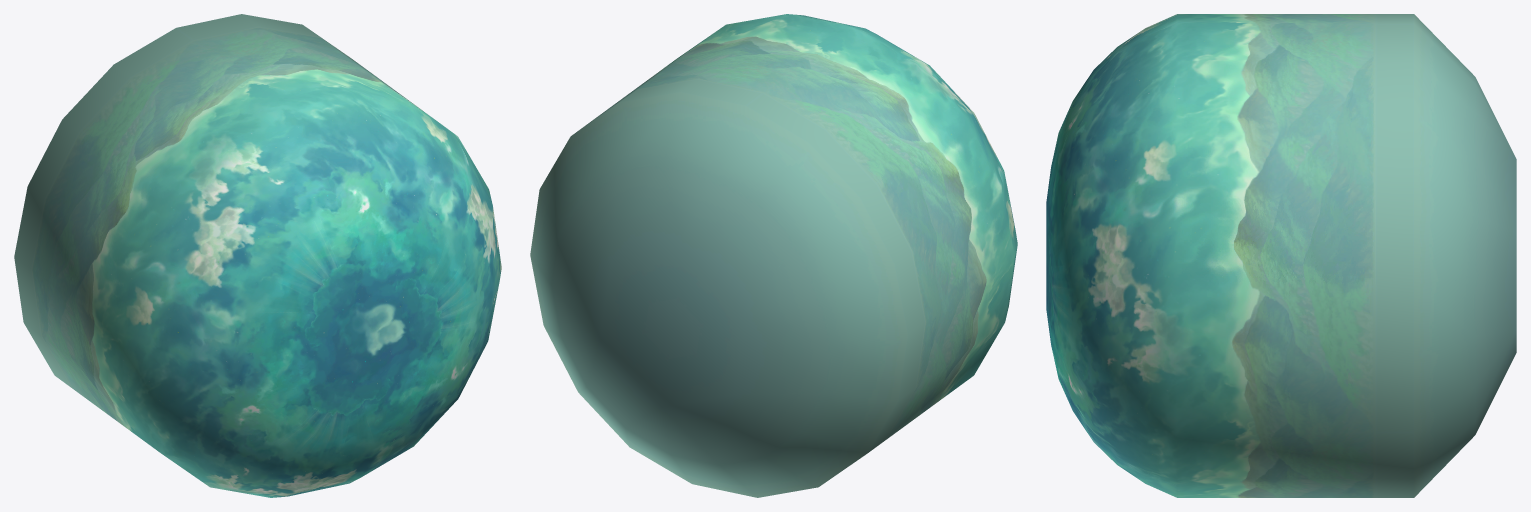
3 views of the same model, side by side, from view 1: azimuth 30°, elevation 25°; view 2: azimuth 150°, elevation 25°; view 3: azimuth 270°, elevation 25° (orthographic). The views are drawn at different scales.
Parts seen in each view (by area): view 1: side01; view 2: side01; view 3: side01.
Part boxes in pixels (x1,y1,x2,y2): side01: (14,14,501,497); side01: (530,14,1017,497); side01: (1046,14,1516,497).
Size of the model in its own units: 4511 by 4467 by 4379.
